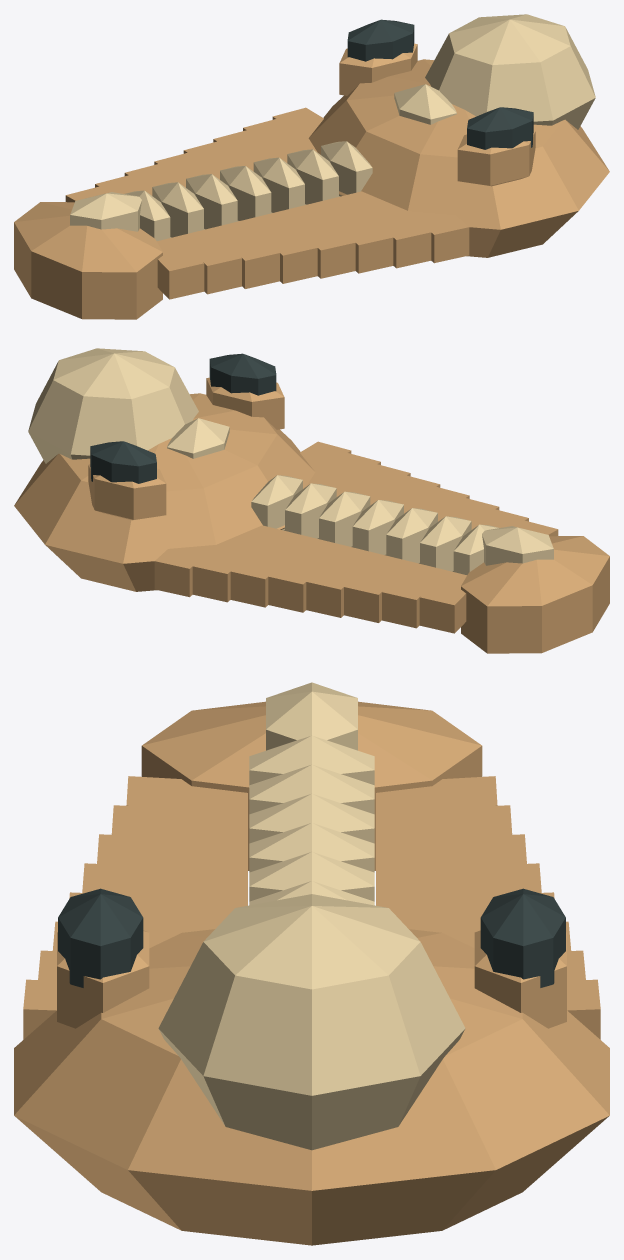
File: phacops-delorme-48279.5c884aabed2c.glb
3 views of the same model, one above another, from view 1: azimuth 30°, elevation 25°; view 2: azimuth 150°, elevation 25°; view 3: azimuth 270°, elevation 25° (orthographic). The views are drawn at different scales.
Visible parts, largest first — view 1: phacops-delorme-48279; view 2: phacops-delorme-48279; view 3: phacops-delorme-48279.
Boxes of the visible parts, x1,y1,x2,y2 form: phacops-delorme-48279: (14,14,609,319); phacops-delorme-48279: (14,348,609,653); phacops-delorme-48279: (14,682,609,1245).
Size of the model in its own units: 1 by 0.335 by 0.5242.
